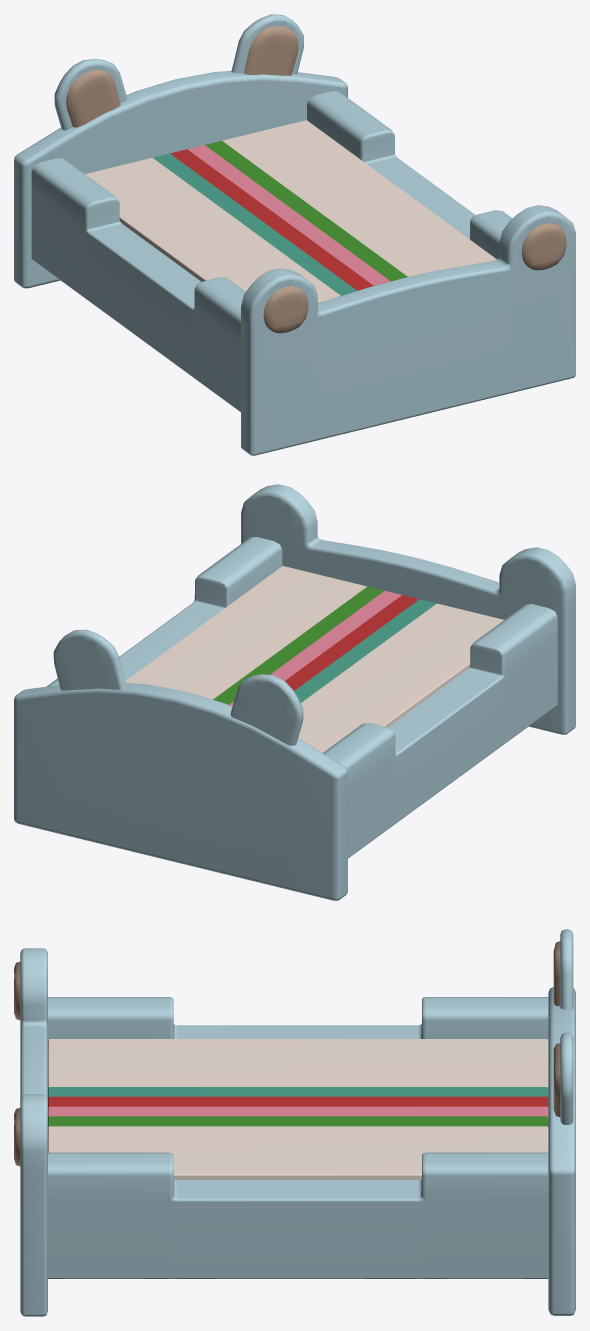
The model's file is bed.glb.
The picture shows the model from 3 angles, top to bottom: view 1: azimuth 30°, elevation 25°; view 2: azimuth 150°, elevation 25°; view 3: azimuth 270°, elevation 25°; orthographic projection. The views are drawn at different scales.
Parts seen in each view (by area): view 1: Bed_6; view 2: Bed_6; view 3: Bed_6.
Boxes of the visible parts, x1,y1,x2,y2 form: Bed_6: (14, 14, 575, 455); Bed_6: (14, 484, 575, 900); Bed_6: (14, 929, 575, 1316).
Size of the model in its own units: 1.97 by 1.2 by 2.53.
1 material, 1 textured.
